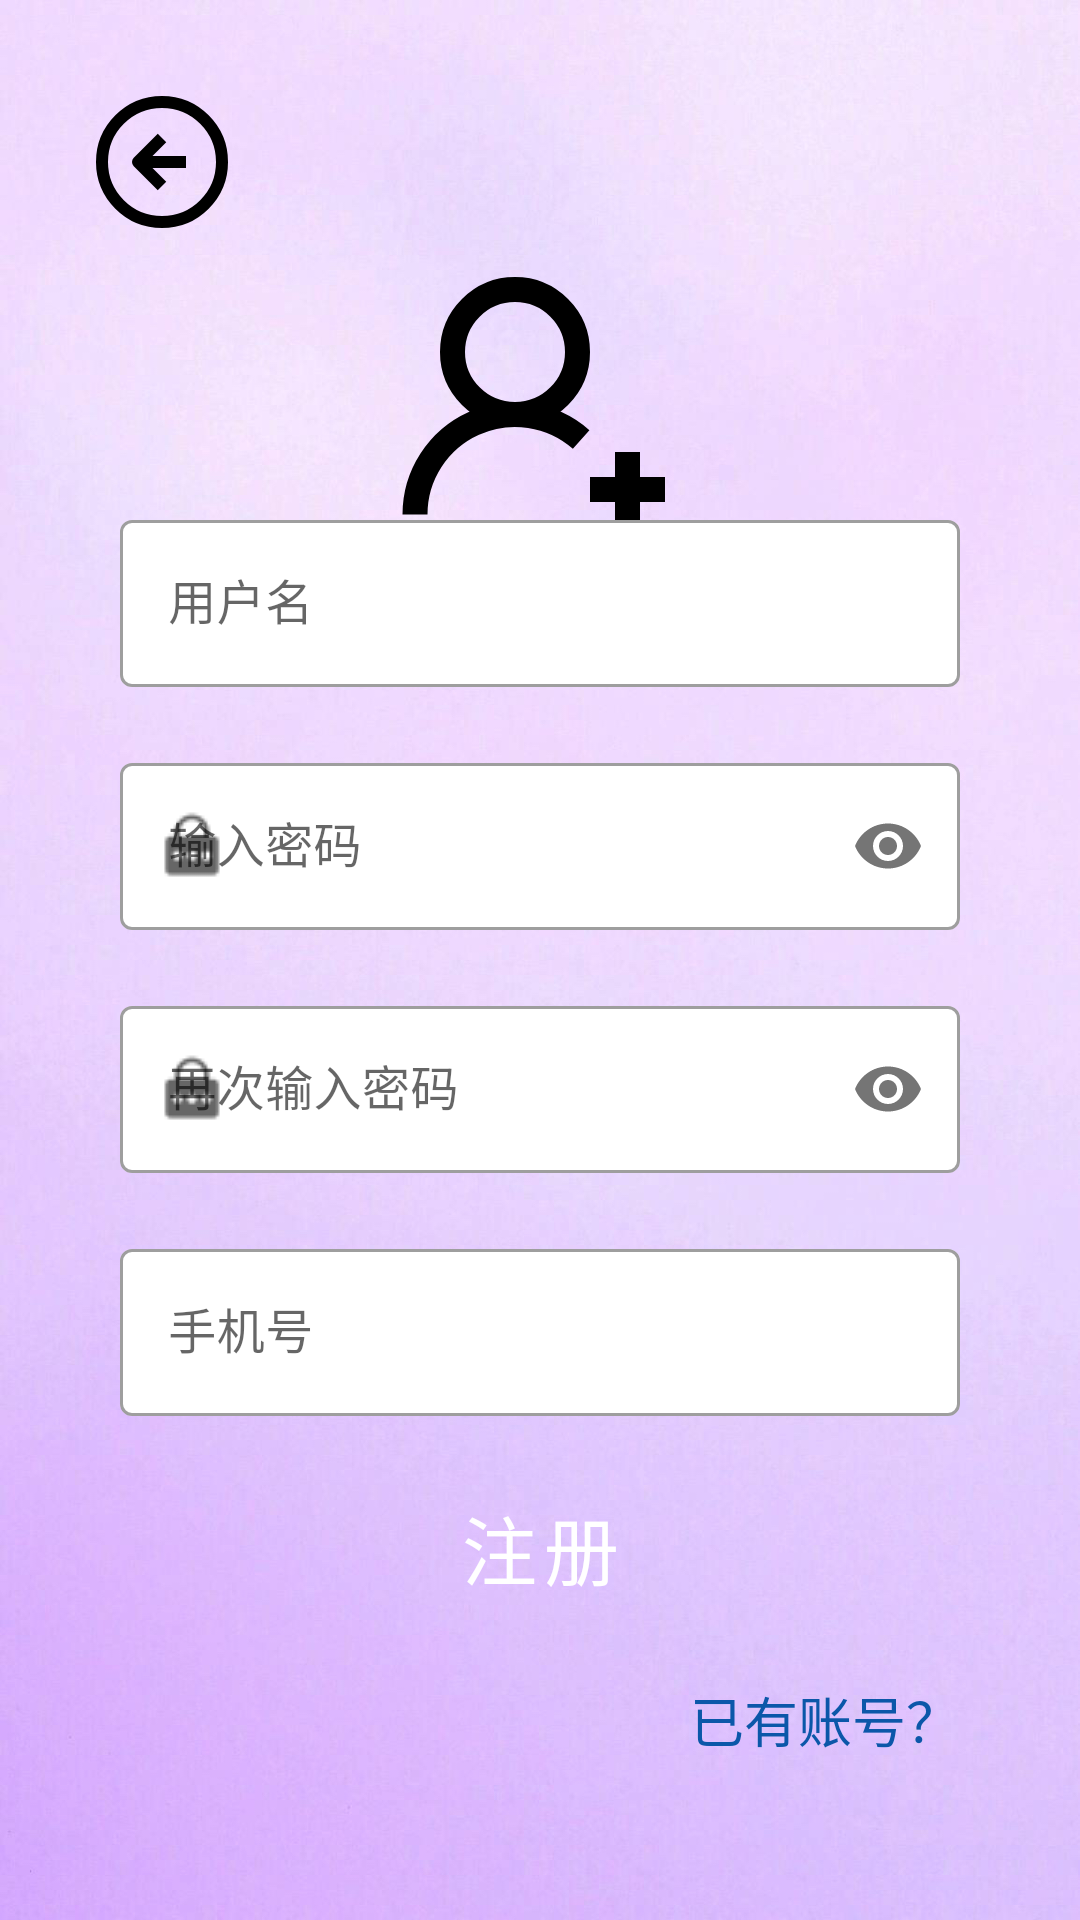

Named icons in this screenshot (1080*1920) and their bounding boxes, (x1, y1, x2, y2):
back: (96, 96, 228, 228)
